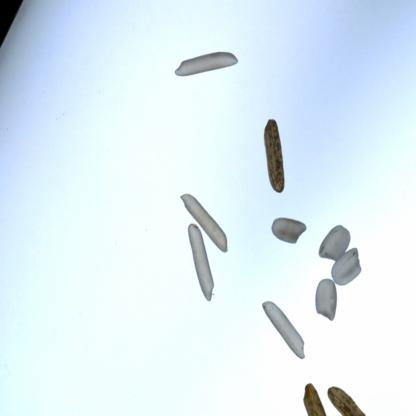Full: (170, 191, 238, 252), (257, 300, 318, 359), (171, 44, 244, 89), (183, 219, 219, 303), (257, 118, 292, 200), (268, 215, 314, 257), (310, 279, 349, 326), (331, 246, 365, 296), (318, 222, 353, 270), (332, 380, 378, 416), (300, 382, 331, 416)
